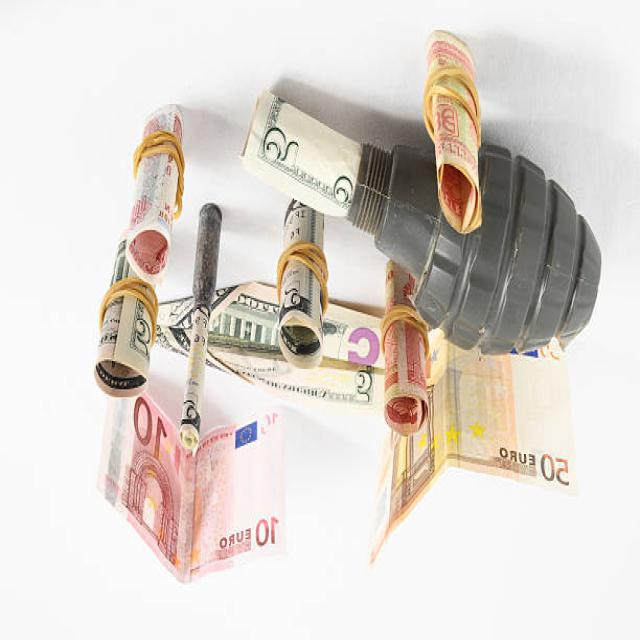grenade: (345, 139, 613, 359)
